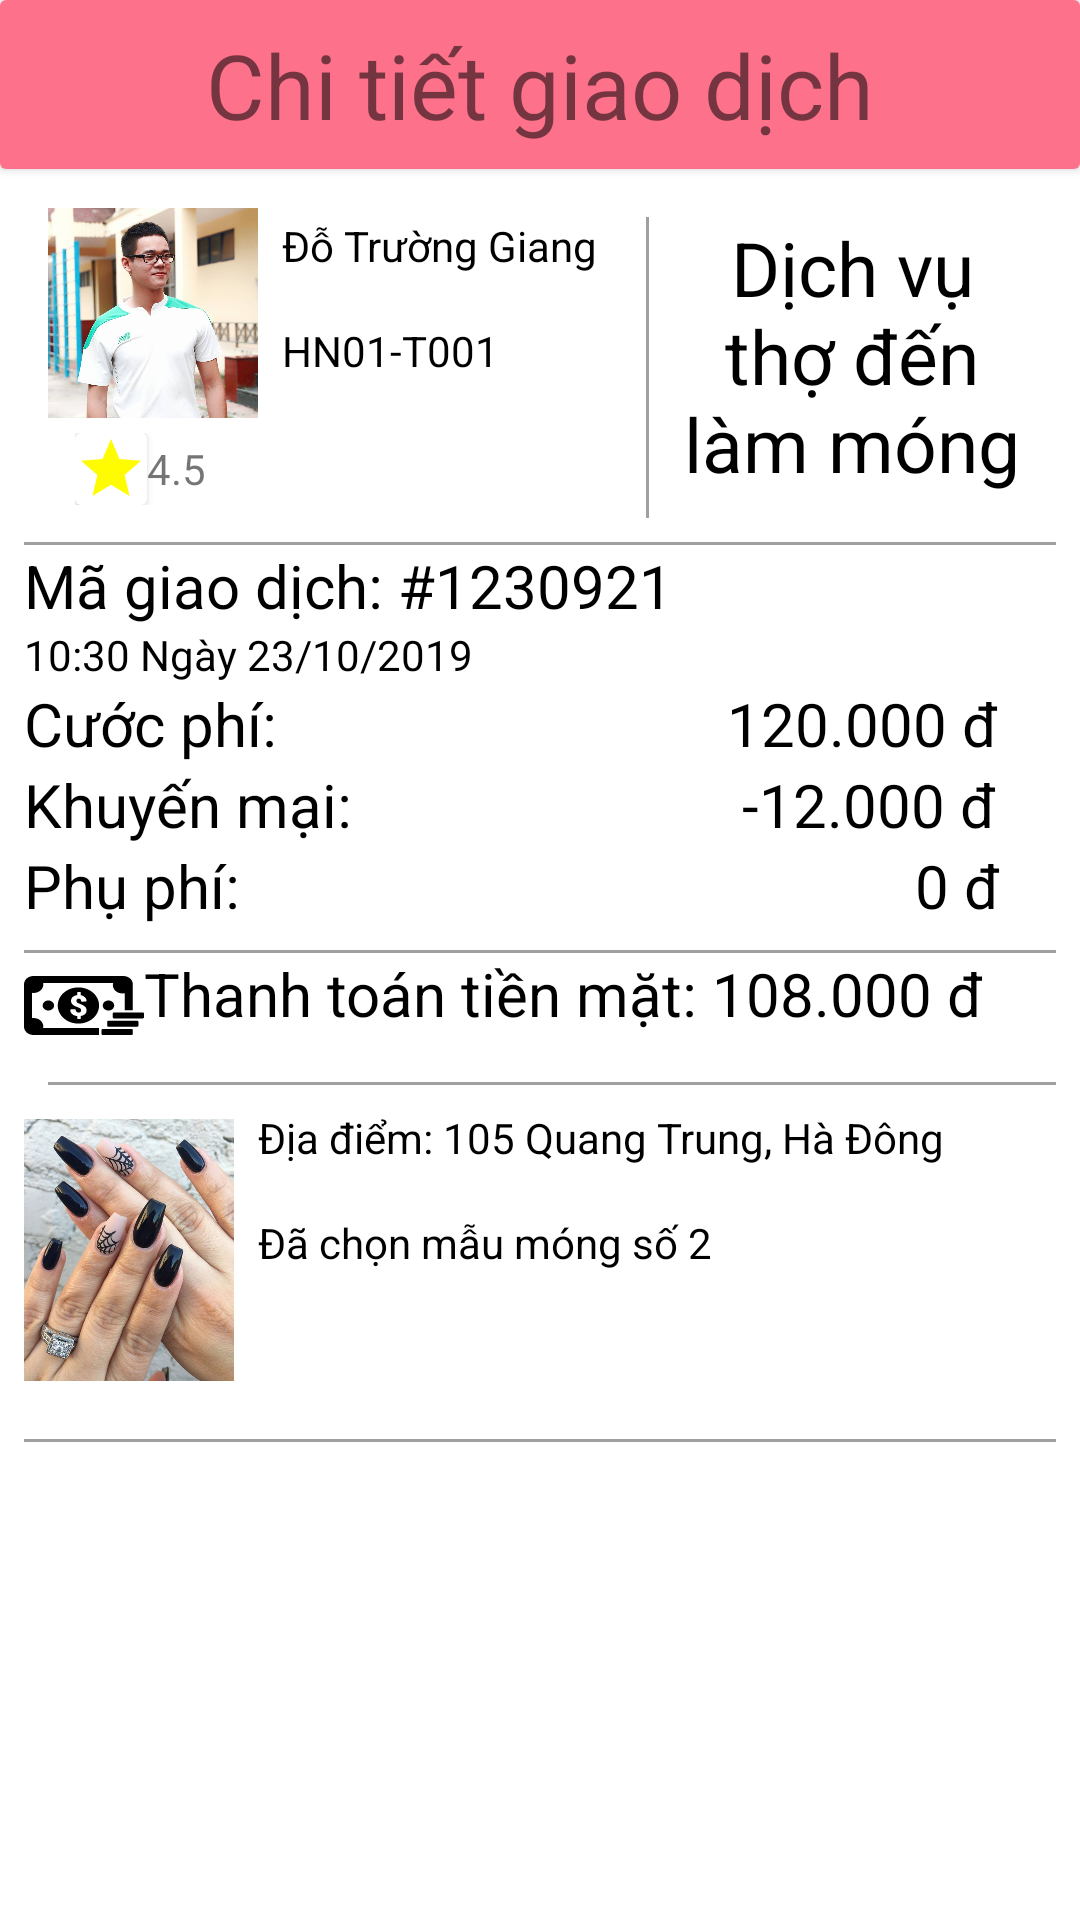

Where to tap for icons on this 1080px x 1920px app screen, as point (x, y):
avata worker: point (153, 313)
star yallow: point (108, 472)
